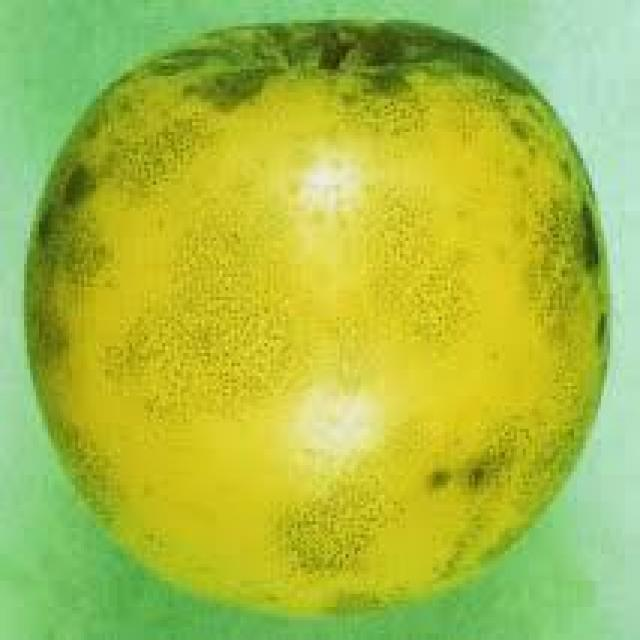Rotten: (30, 24, 603, 608)
